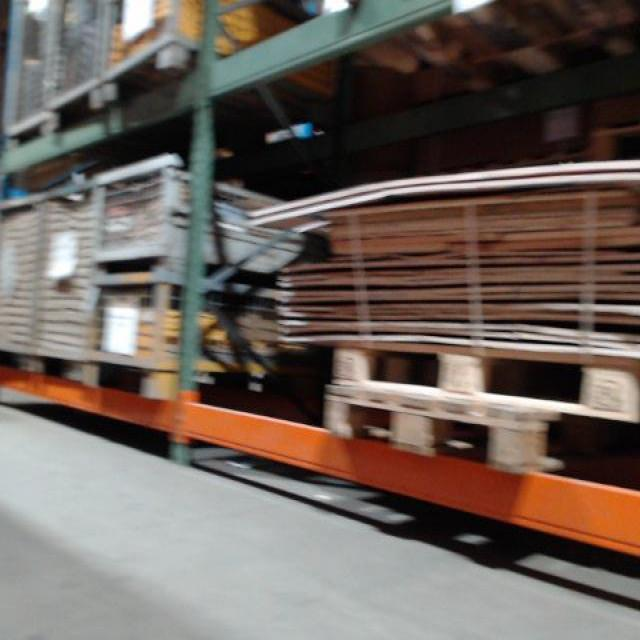pallet: (310, 365, 583, 482), (321, 327, 639, 425)
stillage: (84, 275, 273, 410), (88, 153, 295, 272), (99, 3, 291, 106), (31, 172, 105, 393), (1, 0, 54, 148), (44, 2, 103, 133), (2, 192, 38, 392)
